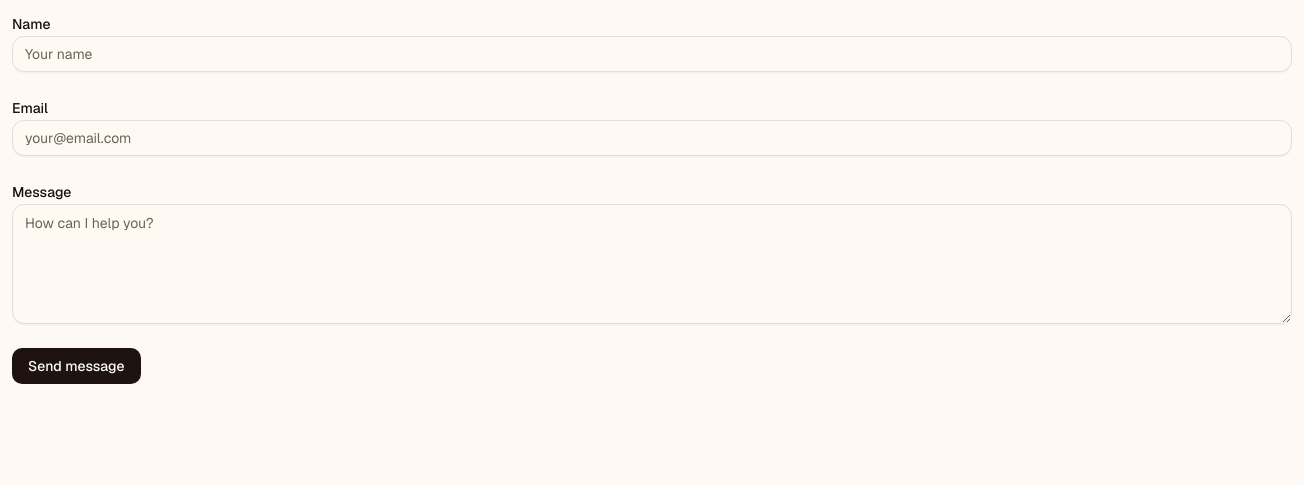
Test case: ContactForm › required field validation (Requirement 8.2) › displays field-level error messages for every required field on empty submit
Click the button "Send message" at (76, 366), box [12,348,140,384]
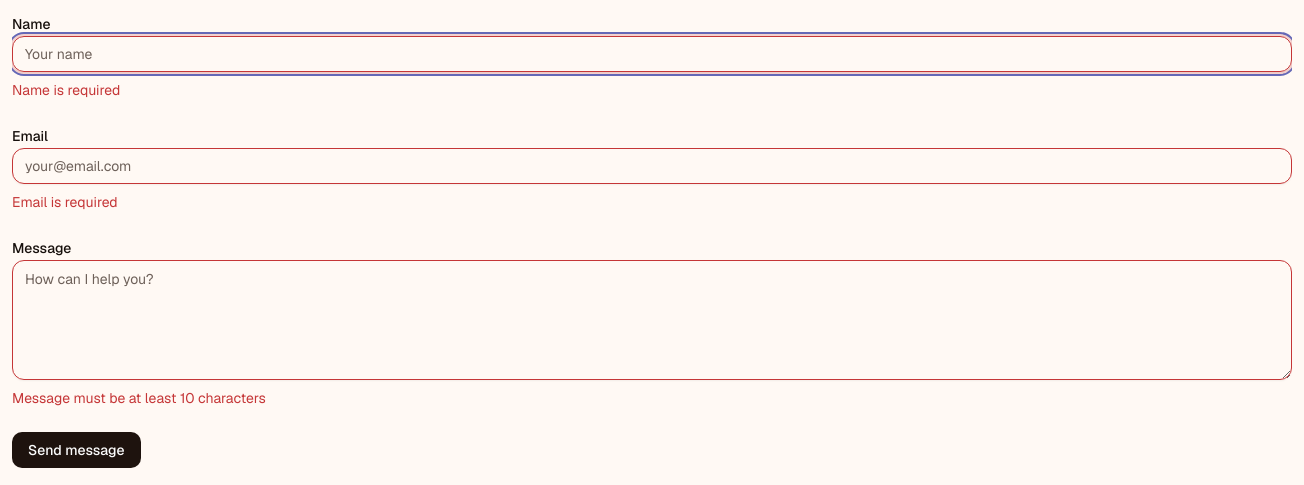
Expected: the text "Name is required" is shown, [12,81,120,99]
Expected: the text "Email is required" is shown, [12,193,118,211]
Expected: the text "Message must be at least 10 characters" is shown, [12,389,266,407]
